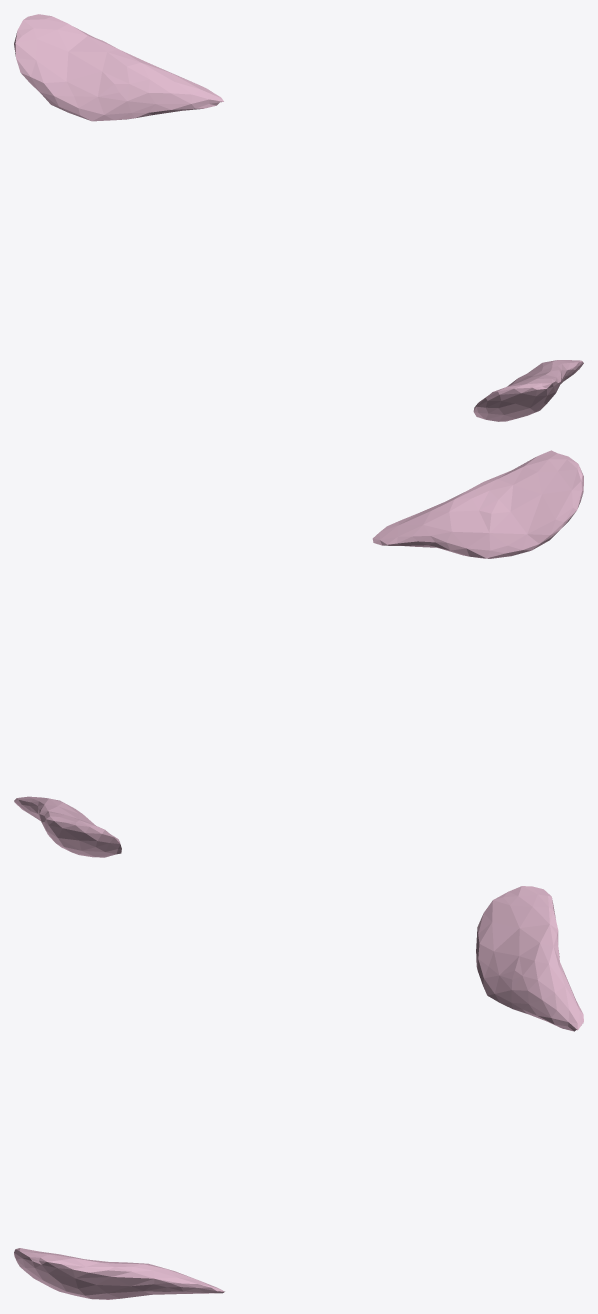
The picture shows the model from 3 angles, top to bottom: view 1: azimuth 30°, elevation 25°; view 2: azimuth 150°, elevation 25°; view 3: azimuth 330°, elevation 25°; orthographic projection.
Parts seen in each view (by area): view 1: 589508451.obj; view 2: 589508451.obj; view 3: 589508451.obj.
Boxes of the visible parts, x1,y1,x2,y2 form: 589508451.obj: [14, 14, 583, 421]; 589508451.obj: [14, 450, 583, 857]; 589508451.obj: [14, 886, 583, 1299].
Bounding box in the file's own units: 813 × 363 × 4591.
